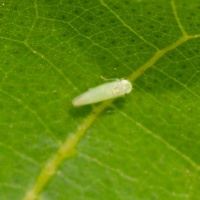insect: (72, 79, 131, 105)
